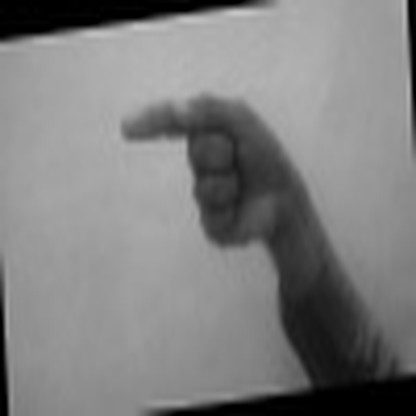g: (100, 69, 309, 251)
